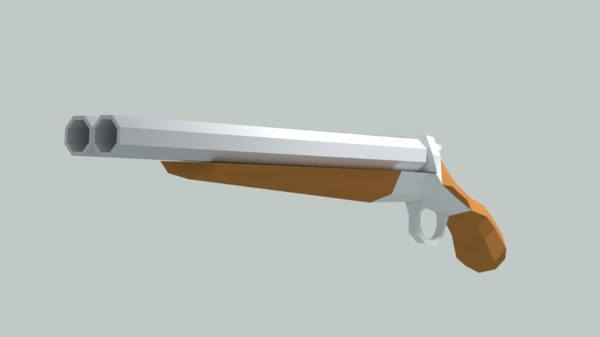weapon: (62, 116, 507, 270)
